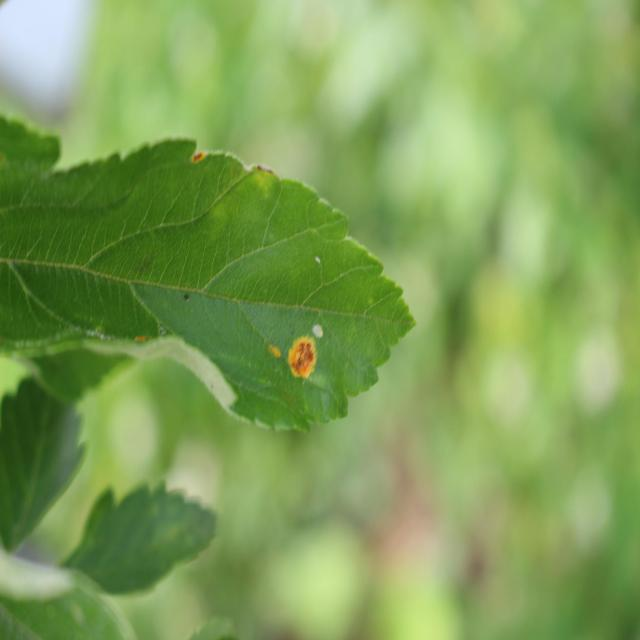Rust: (286, 325, 319, 389), (184, 130, 212, 178), (265, 338, 286, 365)
